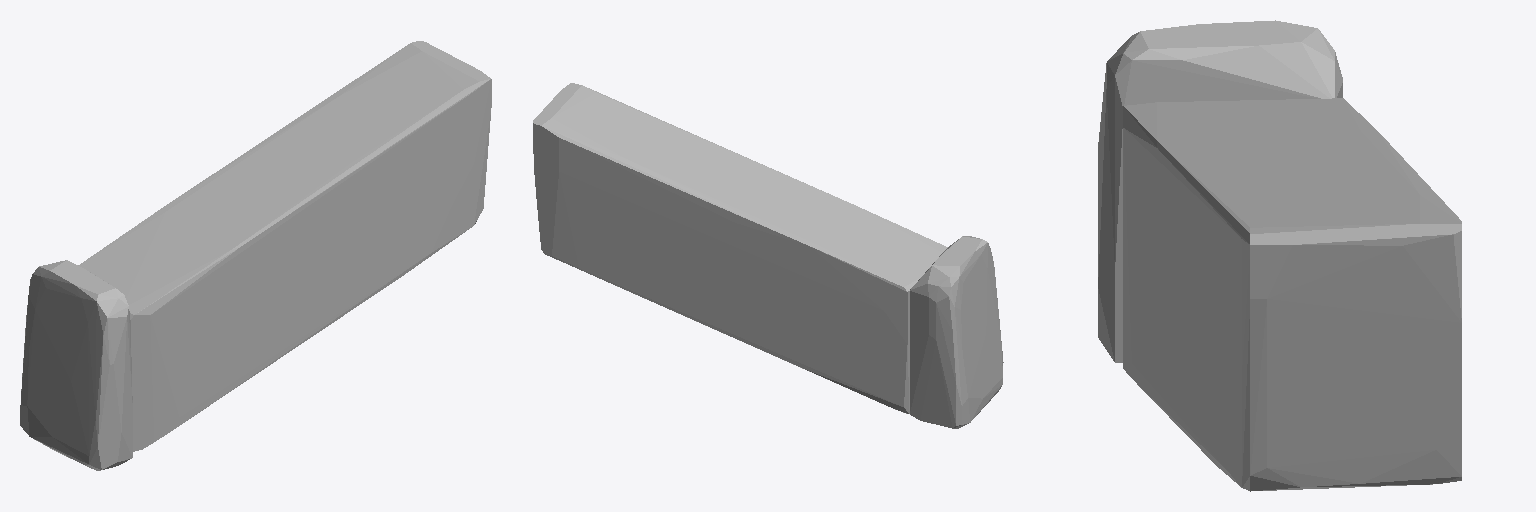
The robot description file, URDF, robot "root":
<robot name="root">
  <link name="link_thingiverse~glock_clip_4493080_convex_piece_0">
    <inertial>
      <origin rpy="0 0 0" xyz="0 0 0"/>
      <mass value="6.30E-02"/>
      <inertia ixx="3.14E-05" ixy="2.75E-05" ixz="4.71E-05" iyy="2.13E-04" iyz="7.00E-06" izz="2.01E-04"/>
    </inertial>
    <visual>
      <origin rpy="0 0 0" xyz="0 0 0"/>
      <geometry>
        <mesh filename="thingiverse~glock_clip_4493080_convex_piece_0.obj" scale="1.0000E+00 1.0000E+00 1.0000E+00"/>
      </geometry>
      <material name="">
        <color rgba="7.50E-01 7.50E-01 7.50E-01 1"/>
      </material>
    </visual>
    <collision>
      <origin rpy="0 0 0" xyz="0 0 0"/>
      <geometry>
        <mesh filename="thingiverse~glock_clip_4493080_convex_piece_0.obj" scale="1.0000E+00 1.0000E+00 1.0000E+00"/>
      </geometry>
    </collision>
  </link>
  <link name="link_thingiverse~glock_clip_4493080_convex_piece_1">
    <inertial>
      <origin rpy="0 0 0" xyz="0 0 0"/>
      <mass value="4.47E-01"/>
      <inertia ixx="1.45E-04" ixy="7.32E-05" ixz="1.44E-04" iyy="5.92E-04" iyz="2.31E-05" izz="5.39E-04"/>
    </inertial>
    <visual>
      <origin rpy="0 0 0" xyz="0 0 0"/>
      <geometry>
        <mesh filename="thingiverse~glock_clip_4493080_convex_piece_1.obj" scale="1.0000E+00 1.0000E+00 1.0000E+00"/>
      </geometry>
      <material name="">
        <color rgba="7.50E-01 7.50E-01 7.50E-01 1"/>
      </material>
    </visual>
    <collision>
      <origin rpy="0 0 0" xyz="0 0 0"/>
      <geometry>
        <mesh filename="thingiverse~glock_clip_4493080_convex_piece_1.obj" scale="1.0000E+00 1.0000E+00 1.0000E+00"/>
      </geometry>
    </collision>
  </link>
  <joint name="link_thingiverse~glock_clip_4493080_convex_piece_1_joint" type="fixed">
    <origin rpy="0 0 0" xyz="0 0 0"/>
    <parent link="link_thingiverse~glock_clip_4493080_convex_piece_0"/>
    <child link="link_thingiverse~glock_clip_4493080_convex_piece_1"/>
  </joint>
</robot>

--- Render facts (derived) ---
The picture shows the robot from 3 angles, left to right: view 1: azimuth 30°, elevation 25°; view 2: azimuth 150°, elevation 25°; view 3: azimuth 270°, elevation 25°; orthographic projection.
Robot: root — 2 links, 1 joints (1 fixed); root link link_thingiverse~glock_clip_4493080_convex_piece_0; default pose: every joint at zero.
Links seen in each view (by area): view 1: link_thingiverse~glock_clip_4493080_convex_piece_1, link_thingiverse~glock_clip_4493080_convex_piece_0; view 2: link_thingiverse~glock_clip_4493080_convex_piece_1, link_thingiverse~glock_clip_4493080_convex_piece_0; view 3: link_thingiverse~glock_clip_4493080_convex_piece_1, link_thingiverse~glock_clip_4493080_convex_piece_0.
Link boxes in pixels (bbox=[...]): link_thingiverse~glock_clip_4493080_convex_piece_1: bbox=[78, 41, 491, 451]; link_thingiverse~glock_clip_4493080_convex_piece_0: bbox=[20, 260, 132, 470]; link_thingiverse~glock_clip_4493080_convex_piece_1: bbox=[533, 83, 947, 413]; link_thingiverse~glock_clip_4493080_convex_piece_0: bbox=[910, 236, 1003, 428]; link_thingiverse~glock_clip_4493080_convex_piece_1: bbox=[1123, 98, 1461, 491]; link_thingiverse~glock_clip_4493080_convex_piece_0: bbox=[1098, 20, 1342, 362].
Size in the robot's own frame: 0.1311 by 0.0495 by 0.0725 metres.
Meshes: 2 distinct files referenced, 2 mesh visuals loaded (2 OBJ).
